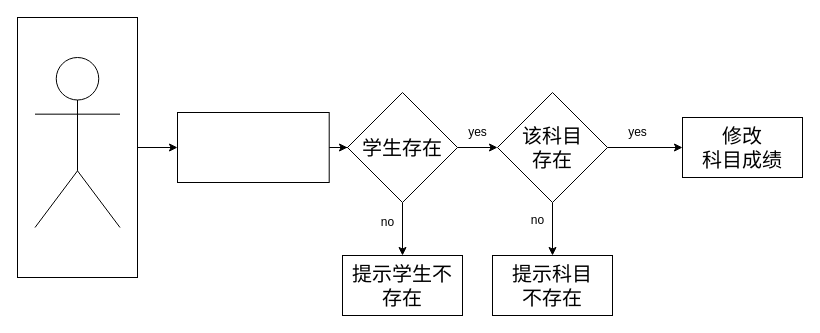
This 820x333 diagram has some shape labels left out. Here are the shapes that lost their labels. From the top down, the box of each, then its label:
(34, 56, 120, 228): Actor
(176, 112, 329, 182): 输入学生学号、科目、分数
